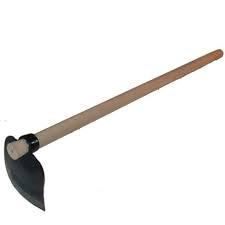HOUE: (0, 27, 225, 225)
